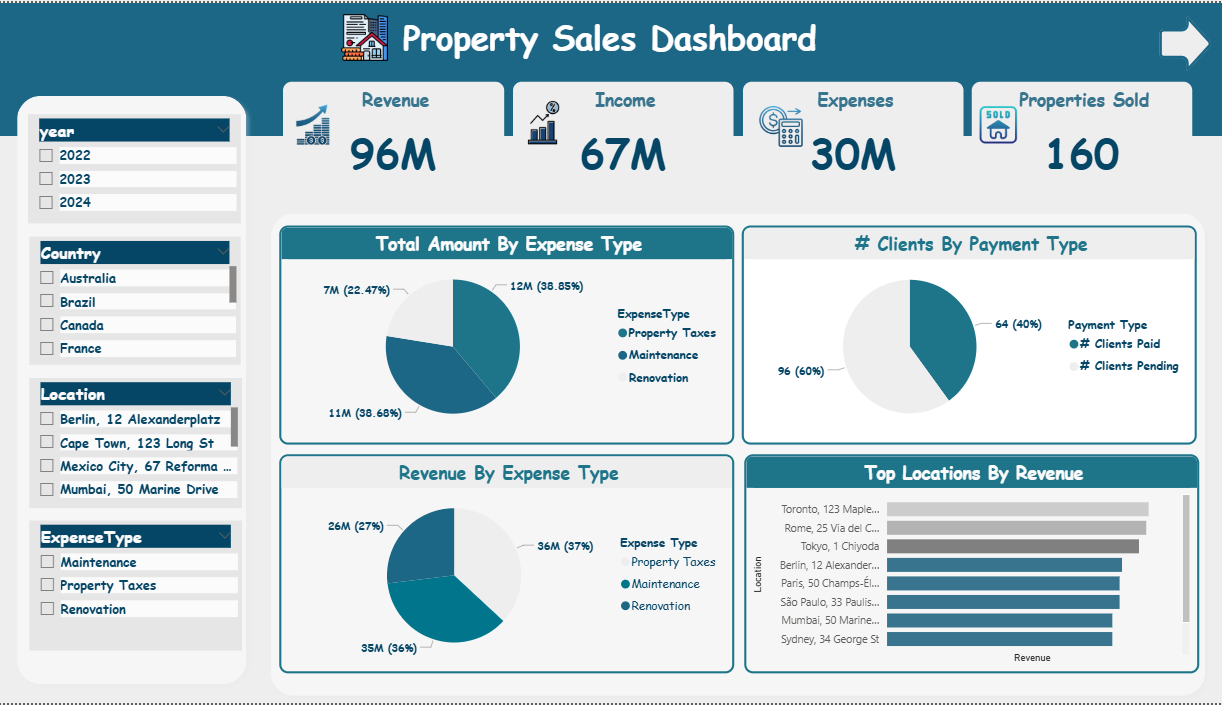

Layout of this report page (visuals, bound fields, positions):
{"tool":"powerbi","page":{"name":"Expense & Financial Analysis","canvas":[1400,800],"ordinal":2},"visuals":[{"type":"shape","box":[0,0,1399.5,152.2],"z":0},{"type":"textbox","title":"Property Sales Dashboard","box":[292.1,12.2,815.2,53],"z":1000},{"type":"card","title":"Revenue","fields":{"Values":["Calculations.Revenue"]},"box":[326.4,89.4,252.7,134.5],"z":2000},{"type":"card","title":"Properties Sold","fields":{"Values":["Calculations.Property sold"]},"box":[1113,89.4,252,134.5],"z":3000},{"type":"card","title":"Income","fields":{"Values":["Calculations.Income"]},"box":[589.1,89.4,252,134.5],"z":4000},{"type":"card","title":"Expenses","fields":{"Values":["Calculations.Expenses"]},"box":[851.1,89.4,252,134.5],"z":5000},{"type":"shape","box":[12.2,96.5,279.9,690.2],"z":6000},{"type":"shape","box":[303,231,1085.6,569.3],"z":7000},{"type":"pieChart","title":"Total Amount By Expense Type","fields":{"Category":["Expense_Table.ExpenseType"],"Y":["Calculations.Total Amount"]},"box":[322,254.1,520,250],"z":8000},{"type":"pieChart","title":"Revenue By Expense Type","fields":{"Y":["Calculations.Revenue"],"Category":["Expense_Table.ExpenseType"]},"box":[322,516.3,520,250],"z":9000},{"type":"image","box":[385.9,1.4,66.6,76.1],"z":10000},{"type":"image","box":[326.1,111.4,67.9,55.7],"z":11000},{"type":"image","box":[589.7,107.3,67.9,59.8],"z":12000},{"type":"image","box":[862.8,111.4,63.9,59.8],"z":13000},{"type":"image","box":[1112.8,107.3,61.1,63.9],"z":14000},{"type":"slicer","fields":{"Values":["calender2.year"]},"box":[34.2,126.9,243.2,125],"z":16000},{"type":"slicer","fields":{"Values":["Property_Table.Country"]},"box":[35,266.8,242,146.1],"z":17000},{"type":"pieChart","title":"# Clients By Payment Type ","fields":{"Y":["Calculations.# Clients Paid","Calculations.# Clients Pending"]},"box":[850.5,254.1,520,250],"z":19000},{"type":"barChart","title":"Top Locations By Revenue","fields":{"Y":["Calculations.Revenue"],"Category":["Property_Table.Location"]},"box":[853.3,516.3,520,250],"z":20000},{"type":"slicer","fields":{"Values":["Property_Table.Location"]},"box":[35,427.9,243.5,149.1],"z":21000},{"type":"slicer","fields":{"Values":["Expense_Table.ExpenseType"]},"box":[35,592,243.5,149.1],"z":22000},{"type":"shape","box":[1327.1,12.9,61.4,67.1],"z":23000}]}

Visuals, with their boxes in screenshot pixels (x1, y1, x2, y2), scaled from the page's 1400x800 canvas onto the 1222x705 screenshot:
shape: region(0, 0, 1221, 134)
"Property Sales Dashboard" textbox: region(255, 11, 967, 57)
"Revenue" card: region(285, 79, 505, 197)
"Properties Sold" card: region(971, 79, 1191, 197)
"Income" card: region(514, 79, 734, 197)
"Expenses" card: region(743, 79, 963, 197)
shape: region(11, 85, 255, 693)
shape: region(264, 204, 1212, 704)
"Total Amount By Expense Type" pieChart: region(281, 224, 735, 444)
"Revenue By Expense Type" pieChart: region(281, 455, 735, 675)
image: region(337, 1, 395, 68)
image: region(285, 98, 344, 147)
image: region(515, 95, 574, 147)
image: region(753, 98, 809, 151)
image: region(971, 95, 1025, 151)
slicer - calender2.year: region(30, 112, 242, 222)
slicer - Property_Table.Country: region(31, 235, 242, 364)
"# Clients By Payment Type " pieChart: region(742, 224, 1196, 444)
"Top Locations By Revenue" barChart: region(745, 455, 1199, 675)
slicer - Property_Table.Location: region(31, 377, 243, 508)
slicer - Expense_Table.ExpenseType: region(31, 522, 243, 653)
shape: region(1158, 11, 1212, 70)
